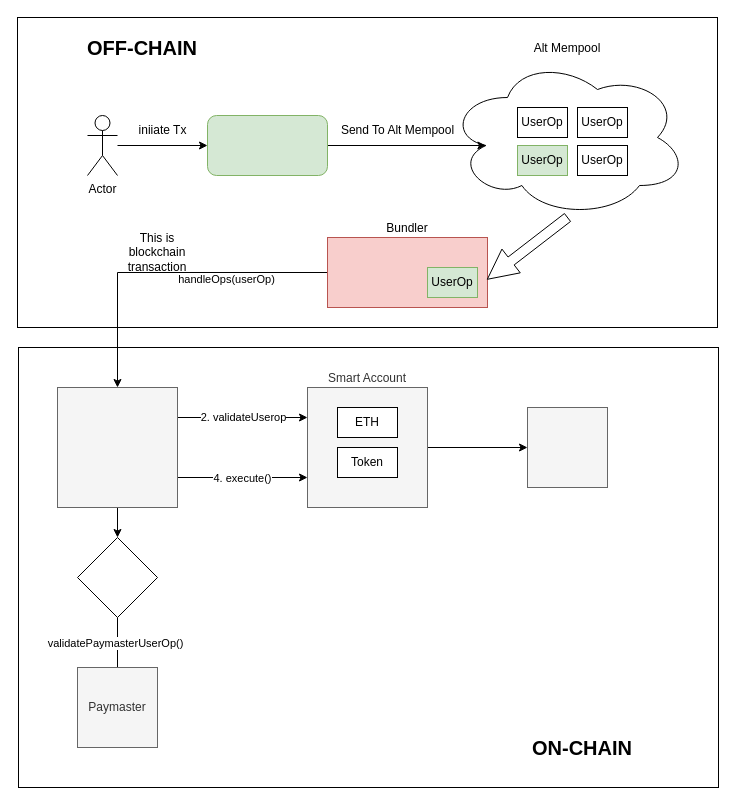
Some shapes in this 736 by 805 pixel diagram are drawn without their labels. Each missing label, with the centre of its shape:
Create UserOperation object: [267,145]
Entrypoint: [117,447]
Paymaster ?: [117,577]
PaymentAd: [567,447]
